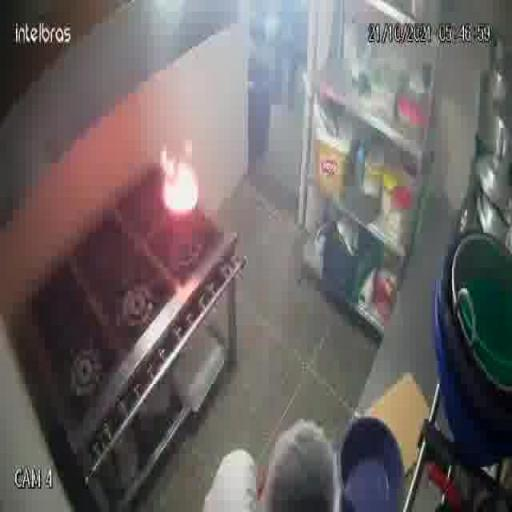smoke: (146, 117, 212, 259)
